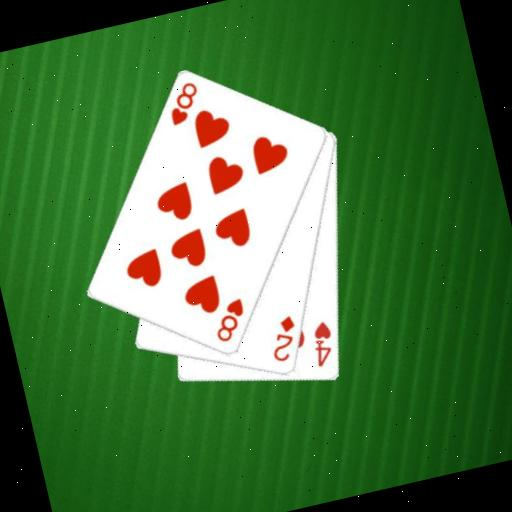2D: (262, 312, 305, 367)
4H: (305, 318, 340, 371)
8H: (160, 77, 206, 129), (207, 295, 253, 346)
